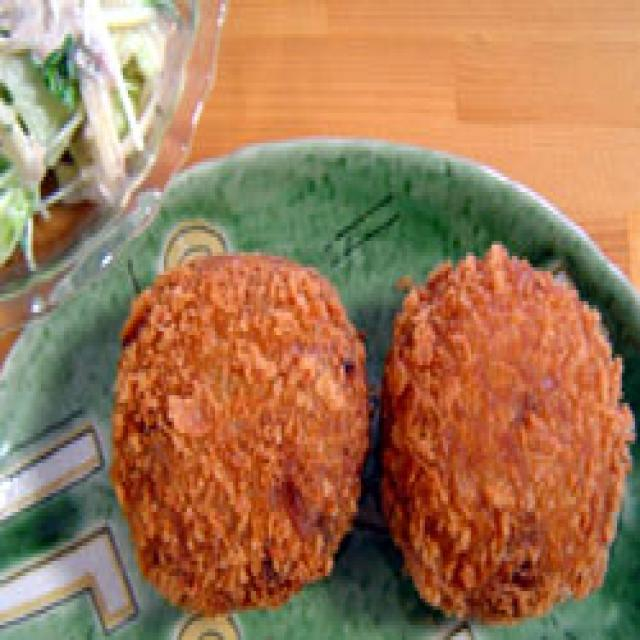炸货点心: (102, 230, 640, 621)
